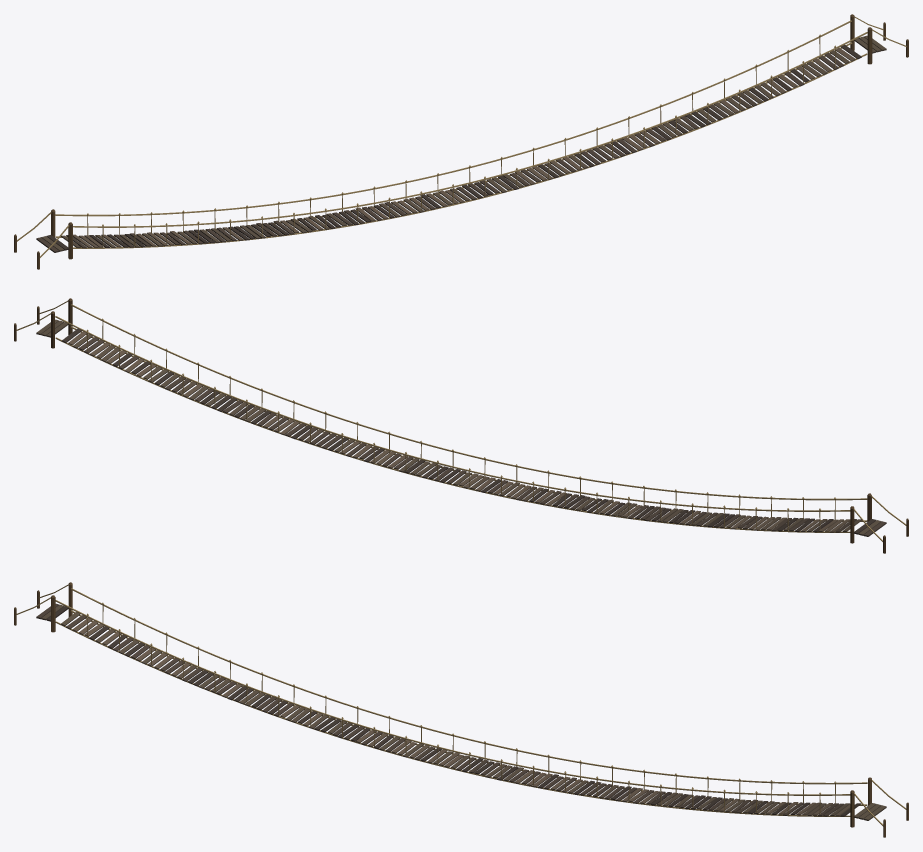
File: wf_rope_bridge.glb
3 views of the same model, one above another, from view 1: azimuth 30°, elevation 25°; view 2: azimuth 150°, elevation 25°; view 3: azimuth 330°, elevation 25° (orthographic).
Parts seen in each view (by area): view 1: wf_rope_bridge; view 2: wf_rope_bridge; view 3: wf_rope_bridge.
Part boxes in pixels (<box>): wf_rope_bridge: <box>14,14,908,269</box>; wf_rope_bridge: <box>14,298,908,553</box>; wf_rope_bridge: <box>14,582,908,837</box>.
Bounding box in the file's own units: 54.76 × 4.64 × 2.66.
